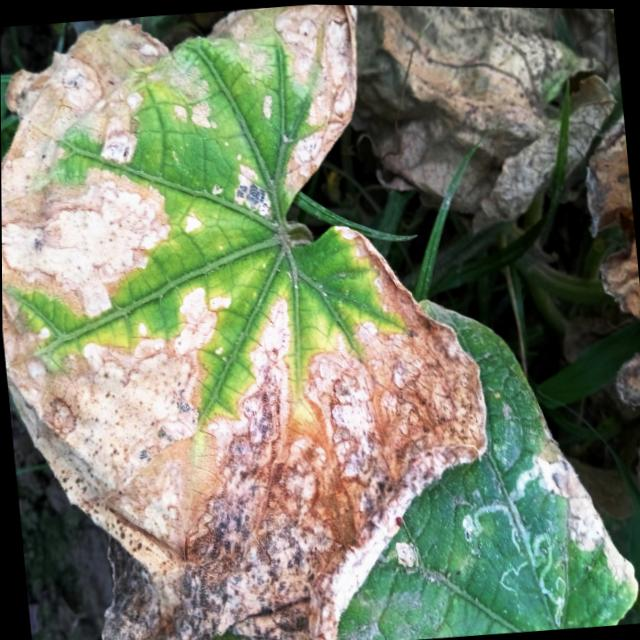Gummy-Stem-Blight: (1, 5, 487, 640)
